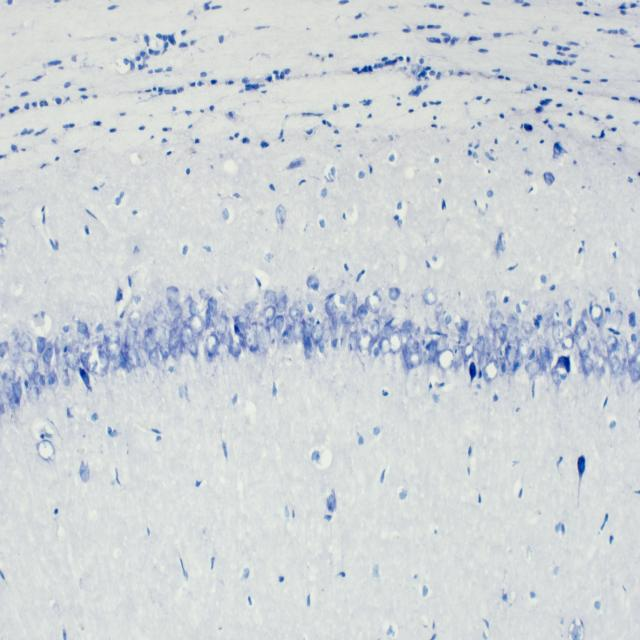neuron: (505, 344, 523, 368), (607, 309, 623, 335), (257, 326, 271, 354), (358, 331, 373, 357), (625, 338, 640, 364), (575, 334, 591, 358), (437, 349, 454, 371), (483, 359, 498, 383), (365, 292, 382, 313), (125, 348, 141, 370), (180, 324, 193, 351), (245, 324, 258, 351), (151, 324, 166, 347), (188, 315, 205, 335), (489, 309, 504, 331), (539, 346, 551, 373), (594, 357, 606, 384), (613, 342, 627, 365), (590, 303, 604, 326), (406, 350, 422, 370), (495, 347, 506, 375), (64, 352, 80, 371), (22, 356, 35, 379), (389, 331, 402, 354), (596, 338, 609, 361), (213, 314, 227, 335), (580, 355, 594, 376), (422, 287, 438, 305), (552, 319, 564, 343), (26, 385, 40, 405), (19, 334, 33, 354), (113, 360, 127, 380), (128, 310, 142, 330), (436, 335, 450, 355), (574, 319, 588, 339), (276, 290, 288, 313), (46, 370, 59, 391), (345, 289, 358, 310), (472, 335, 485, 356), (517, 337, 530, 358), (232, 314, 248, 331), (525, 359, 541, 376), (216, 341, 230, 360), (138, 346, 150, 368), (483, 324, 494, 348), (550, 364, 562, 386), (3, 369, 16, 389), (311, 324, 324, 344), (367, 319, 380, 339), (188, 300, 204, 316), (106, 344, 123, 359), (98, 351, 110, 372), (302, 318, 314, 339), (322, 316, 331, 344), (324, 298, 338, 316), (454, 317, 468, 335), (535, 320, 547, 341), (124, 328, 137, 347), (12, 381, 23, 403), (629, 361, 640, 383), (170, 340, 182, 360), (206, 334, 218, 354), (293, 320, 303, 344), (379, 336, 391, 356), (606, 334, 618, 354), (152, 307, 166, 324), (520, 321, 534, 338), (77, 322, 90, 340), (119, 356, 132, 374), (506, 325, 519, 343), (453, 344, 464, 365), (169, 328, 179, 351), (493, 331, 503, 354), (80, 351, 92, 370), (250, 303, 262, 322), (462, 342, 474, 361), (378, 306, 392, 322), (229, 341, 242, 358), (54, 333, 64, 355), (149, 346, 160, 366), (9, 344, 21, 362), (160, 342, 172, 360), (208, 296, 220, 314), (486, 291, 498, 309), (610, 356, 622, 374), (406, 337, 420, 352), (166, 286, 179, 302), (289, 306, 302, 322), (307, 274, 320, 290), (282, 329, 294, 346), (348, 332, 358, 352), (32, 372, 46, 386), (263, 306, 276, 321), (67, 338, 79, 354), (103, 328, 115, 344), (142, 334, 154, 350), (562, 335, 574, 351), (563, 298, 575, 314), (498, 323, 508, 342), (429, 340, 437, 363), (78, 335, 91, 349), (388, 287, 401, 301), (264, 290, 276, 305), (340, 309, 352, 324), (42, 348, 53, 364), (273, 316, 284, 332), (357, 304, 368, 320), (342, 320, 351, 339), (303, 334, 313, 351), (304, 346, 316, 360), (187, 342, 198, 357), (222, 330, 233, 345), (238, 331, 247, 349), (349, 315, 358, 333), (286, 314, 296, 330), (199, 287, 211, 300), (543, 307, 554, 321), (579, 308, 590, 322), (0, 341, 9, 358), (434, 302, 443, 319), (36, 337, 46, 352), (106, 335, 121, 345), (143, 311, 153, 326), (508, 311, 518, 326), (244, 300, 256, 312), (401, 320, 412, 333), (172, 305, 182, 319), (166, 300, 178, 310), (205, 309, 211, 329), (383, 325, 394, 335), (331, 314, 338, 328), (174, 316, 182, 328), (318, 343, 326, 353), (424, 354, 432, 364), (445, 314, 452, 325), (62, 325, 70, 334), (97, 323, 104, 333)
